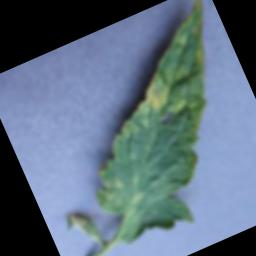Leaf_Mold: (104, 66, 187, 142)
